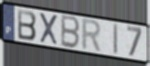7: (126, 25, 144, 59)
B: (60, 13, 81, 51), (17, 9, 38, 42)
I: (113, 23, 119, 57)
R: (81, 18, 103, 55)
X: (39, 11, 60, 47)
